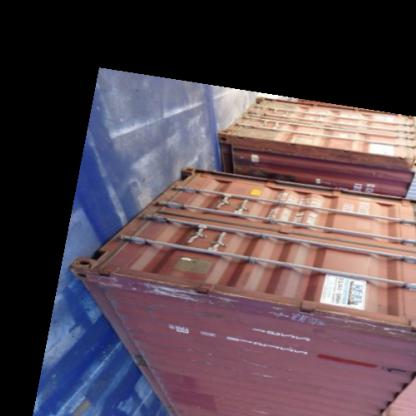Damage: (128, 279, 200, 307), (328, 312, 373, 334), (376, 318, 412, 342), (245, 360, 278, 383), (198, 340, 216, 368)
